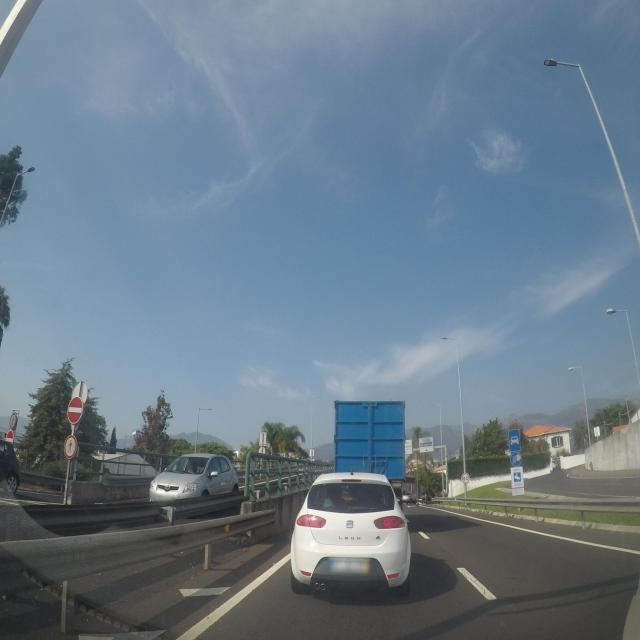car: (289, 470, 412, 596), (148, 452, 240, 506), (0, 438, 21, 493), (402, 492, 417, 504)
